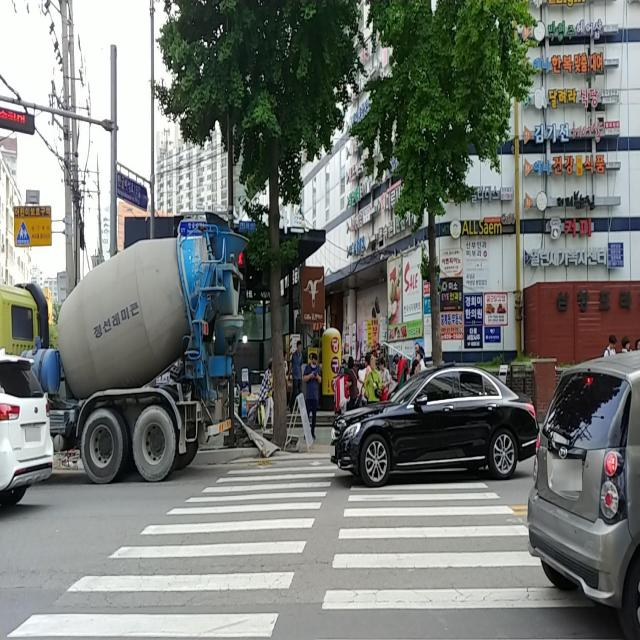빨간불: (233, 246, 245, 288)
횡단보도: (3, 456, 600, 639)
